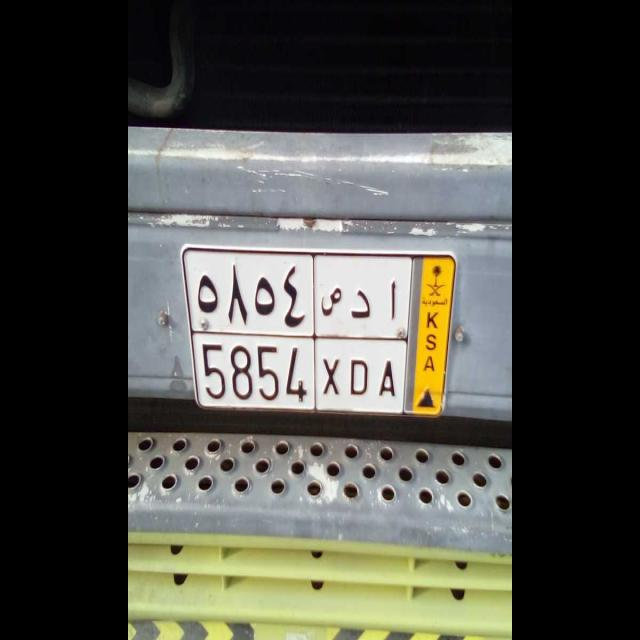license_plate: (193, 336, 403, 411)
